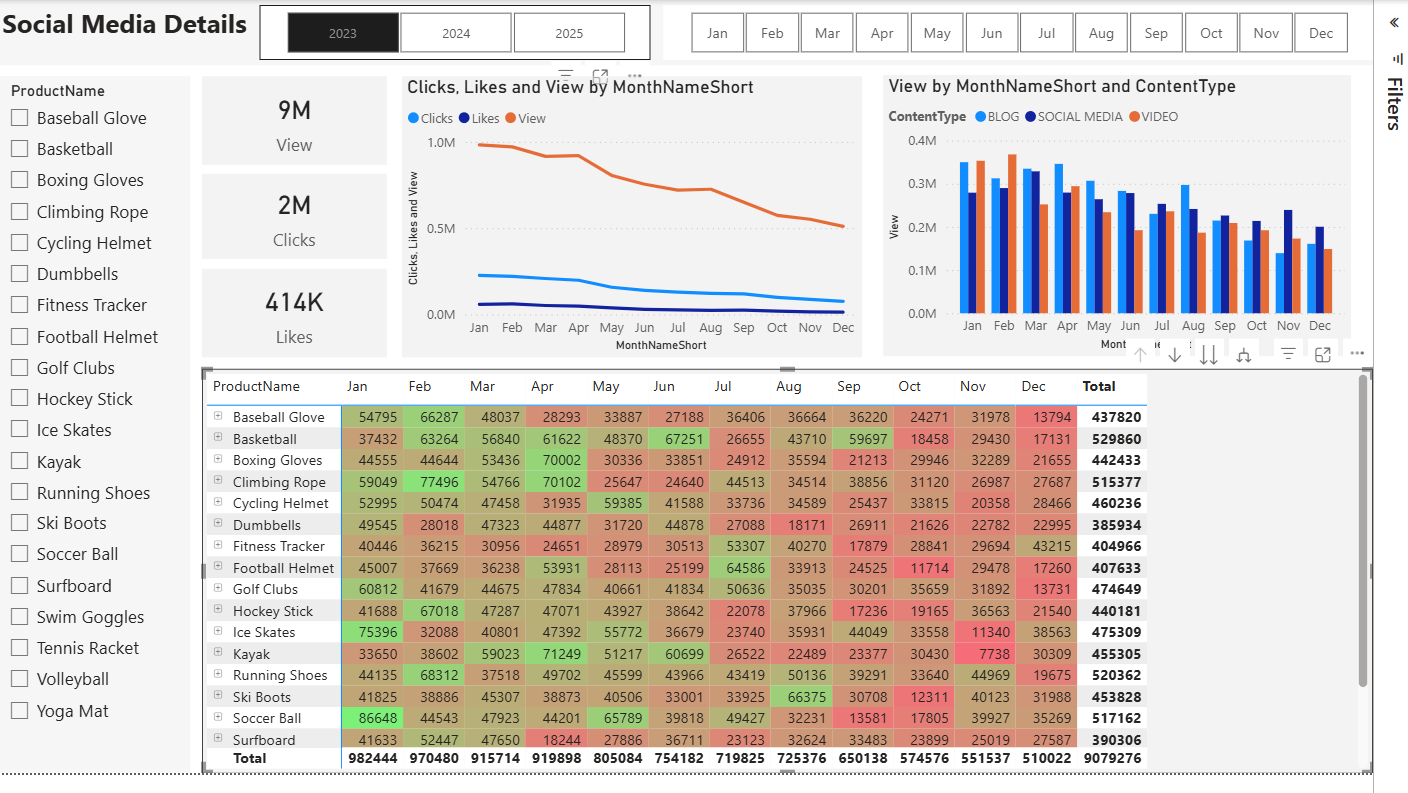

The page's visual inventory and layout, read from the dashboard file:
{"tool":"powerbi","page":{"name":"Social Media Details","canvas":[1280,720],"ordinal":2},"visuals":[{"type":"textbox","box":[0,0,1280.2,60.5],"z":0},{"type":"slicer","fields":{"Values":["dim_products.ProductName"]},"box":[0,70.9,180.2,648.8],"z":1000},{"type":"card","fields":{"Values":["Calculator.View"]},"box":[190.7,70.9,172.1,82.6],"z":2000},{"type":"card","fields":{"Values":["Calculator.Likes"]},"box":[190.7,250,172.1,82.6],"z":3000},{"type":"card","fields":{"Values":["Calculator.Clicks"]},"box":[190.7,161.6,172.1,79.1],"z":4000},{"type":"slicer","fields":{"Values":["Calendar.Year"]},"box":[244.2,4.7,364,51.2],"z":5000},{"type":"slicer","fields":{"Values":["Calendar.MonthNameShort"]},"box":[619.8,4.7,660.5,51.2],"z":6000},{"type":"lineChart","fields":{"Category":["Calendar.MonthNameShort"],"Y":["Calculator.Clicks","Calculator.Likes","Calculator.View"]},"box":[376.7,70.9,427.9,261.6],"z":7000},{"type":"clusteredColumnChart","fields":{"Category":["Calendar.MonthNameShort"],"Y":["Calculator.View"],"Series":["fact_engagement_data.ContentType"]},"box":[824.4,69.8,434.9,261.6],"z":8000},{"type":"pivotTable","fields":{"Values":["Calculator.View"],"Rows":["dim_products.ProductName","fact_engagement_data.ContentType"],"Columns":["Calendar.MonthNameShort"]},"box":[190.7,343,1089.5,376.7],"z":9000}]}

Visuals, with their boxes in screenshot pixels (x1, y1, x2, y2), scaled from the page's 1280x720 canvas onto the 1408x793 screenshot:
textbox: (0, 0, 1407, 67)
slicer - dim_products.ProductName: (0, 78, 198, 792)
card - Calculator.View: (210, 78, 399, 169)
card - Calculator.Likes: (210, 275, 399, 366)
card - Calculator.Clicks: (210, 178, 399, 265)
slicer - Calendar.Year: (269, 5, 669, 62)
slicer - Calendar.MonthNameShort: (682, 5, 1407, 62)
lineChart - Calendar.MonthNameShort x Calculator.Clicks: (414, 78, 885, 366)
clusteredColumnChart - Calendar.MonthNameShort x Calculator.View: (907, 77, 1385, 365)
pivotTable - Calculator.View x dim_products.ProductName: (210, 378, 1407, 792)
